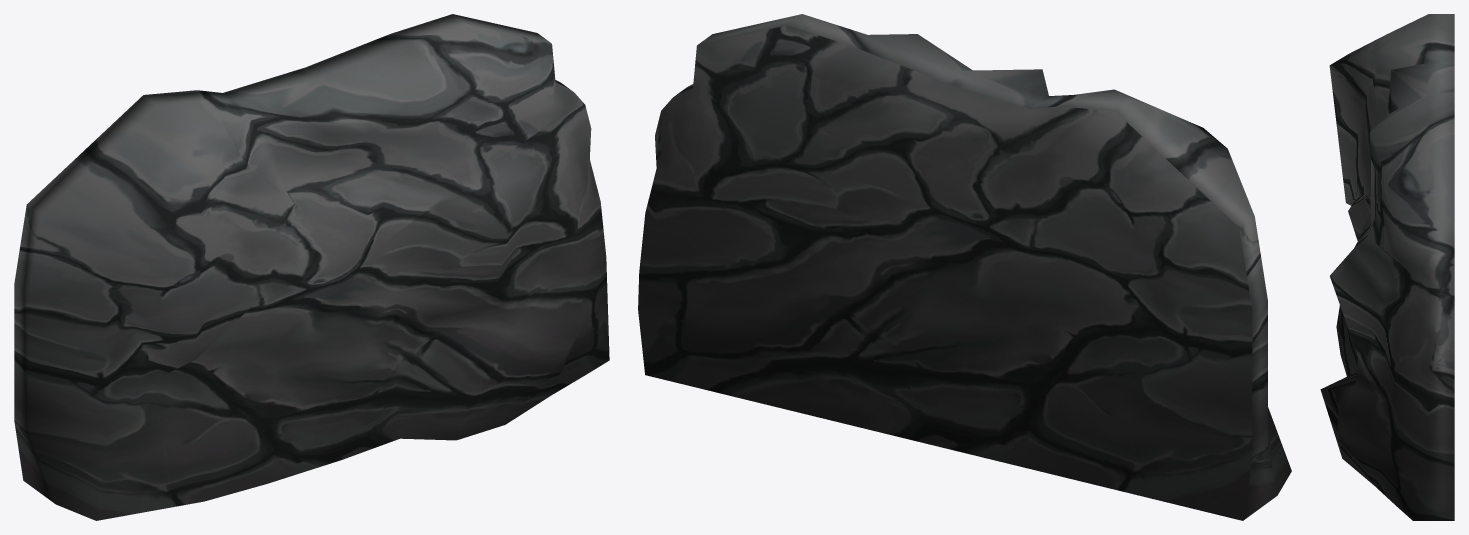
Rendered from fanasty_mod_stone_wall02.fbx.
The picture shows the model from 3 angles, left to right: view 1: azimuth 30°, elevation 25°; view 2: azimuth 150°, elevation 25°; view 3: azimuth 270°, elevation 25°; orthographic projection. The views are drawn at different scales.
Visible parts, largest first — view 1: stone_wall02; view 2: stone_wall02; view 3: stone_wall02.
Boxes of the visible parts, left/top/right/bottom form: stone_wall02: left=14, top=14, right=609, bottom=520; stone_wall02: left=638, top=14, right=1291, bottom=520; stone_wall02: left=1320, top=14, right=1454, bottom=520.
Size of the model in its own units: 2.86 by 1.71 by 0.6477.
